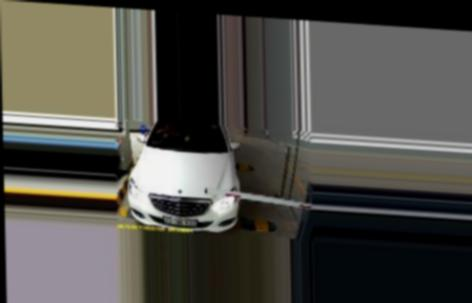License_Plate: (161, 213, 200, 227)
